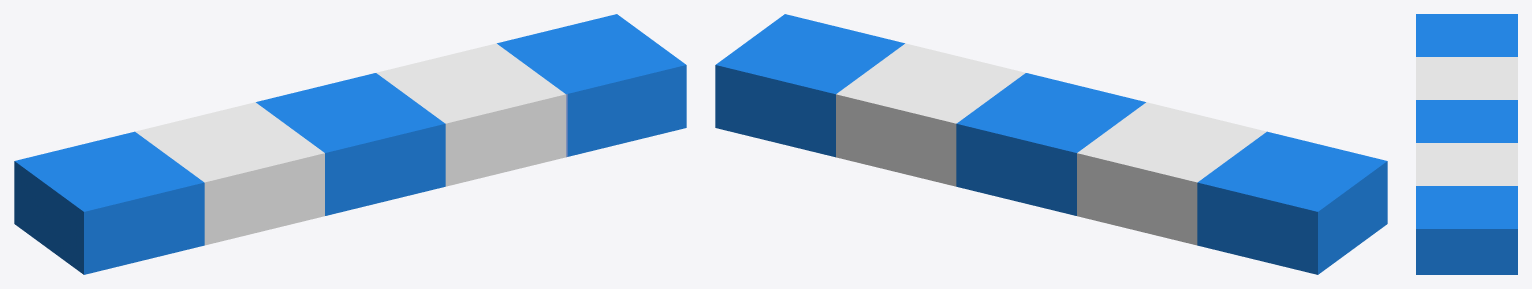
The model's file is p_taman4.fbx.
The picture shows the model from 3 angles, left to right: view 1: azimuth 30°, elevation 25°; view 2: azimuth 150°, elevation 25°; view 3: azimuth 270°, elevation 25°; orthographic projection. The views are drawn at different scales.
Parts seen in each view (by area): view 1: Cube; view 2: Cube; view 3: Cube.
Boxes of the visible parts, x1,y1,x2,y2 form: Cube: [14, 14, 686, 274]; Cube: [715, 14, 1387, 274]; Cube: [1416, 14, 1517, 274].
Size of the model in its own units: 500 by 50 by 100.
